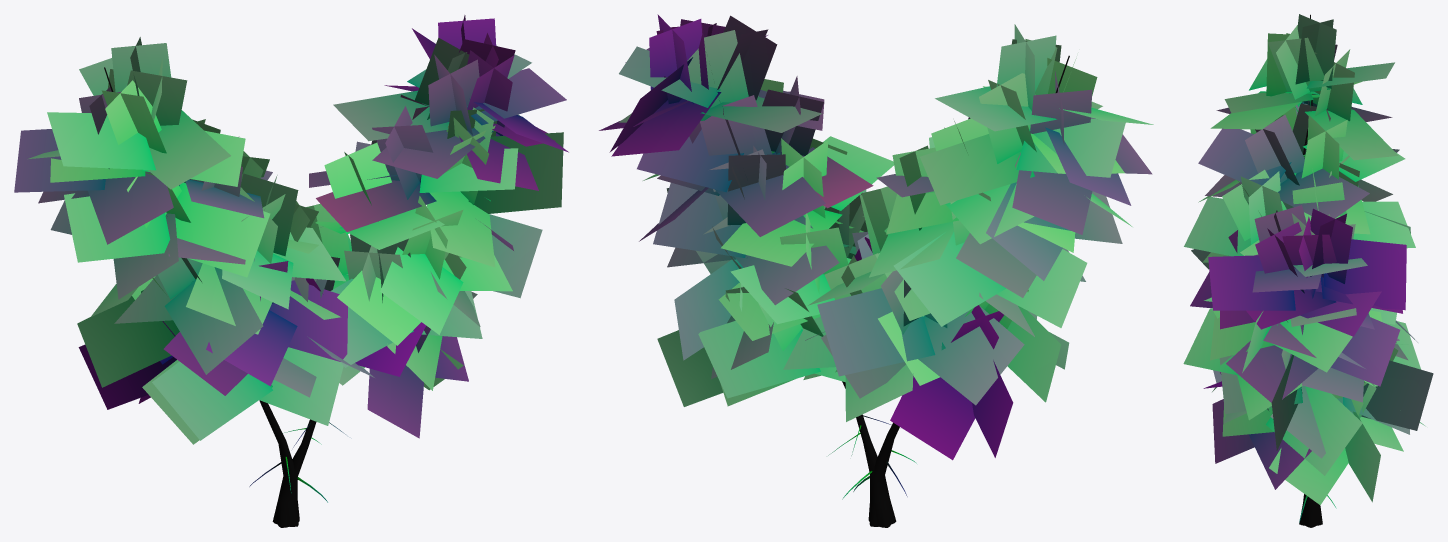
Rendered from Tree_2_8.fbx.
3 renders of one model, left to right at view 1: azimuth 30°, elevation 25°; view 2: azimuth 150°, elevation 25°; view 3: azimuth 270°, elevation 25°, orthographic. The views are drawn at different scales.
Parts seen in each view (by area): view 1: _8; view 2: _8; view 3: _8.
Part boxes in pixels (x1,y1,x2,y2): _8: (14,15,568,527); _8: (599,14,1153,527); _8: (1183,14,1433,527).
Bounding box in the file's own units: 1747 × 1680 × 860.
